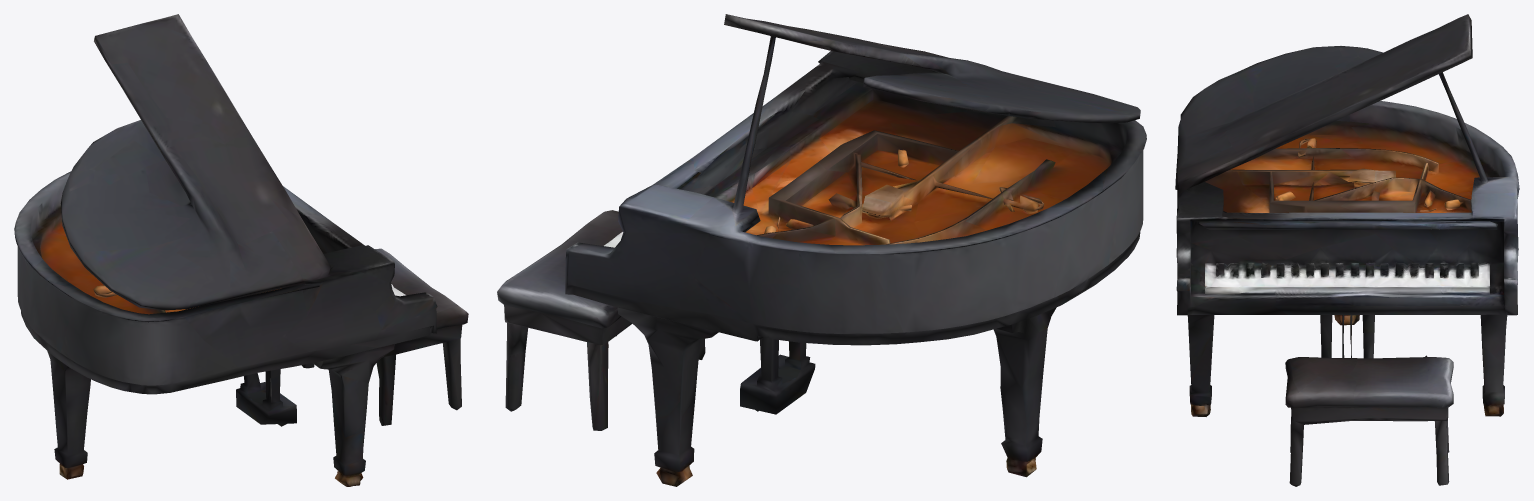
The model's file is grand-piano.glb.
3 views of the same model, side by side, from view 1: azimuth 30°, elevation 25°; view 2: azimuth 150°, elevation 25°; view 3: azimuth 270°, elevation 25° (orthographic). The views are drawn at different scales.
Visible parts, largest first — view 1: tripo_node_08fe869f-4d15-44f3-b08d-27936b7d0218; view 2: tripo_node_08fe869f-4d15-44f3-b08d-27936b7d0218; view 3: tripo_node_08fe869f-4d15-44f3-b08d-27936b7d0218.
Part boxes in pixels (<box>): tripo_node_08fe869f-4d15-44f3-b08d-27936b7d0218: <box>14,14,468,486</box>; tripo_node_08fe869f-4d15-44f3-b08d-27936b7d0218: <box>497,14,1146,486</box>; tripo_node_08fe869f-4d15-44f3-b08d-27936b7d0218: <box>1175,14,1519,486</box>.
Size of the model in its own units: 1 by 0.8665 by 0.7733.
1 material, 1 textured.
